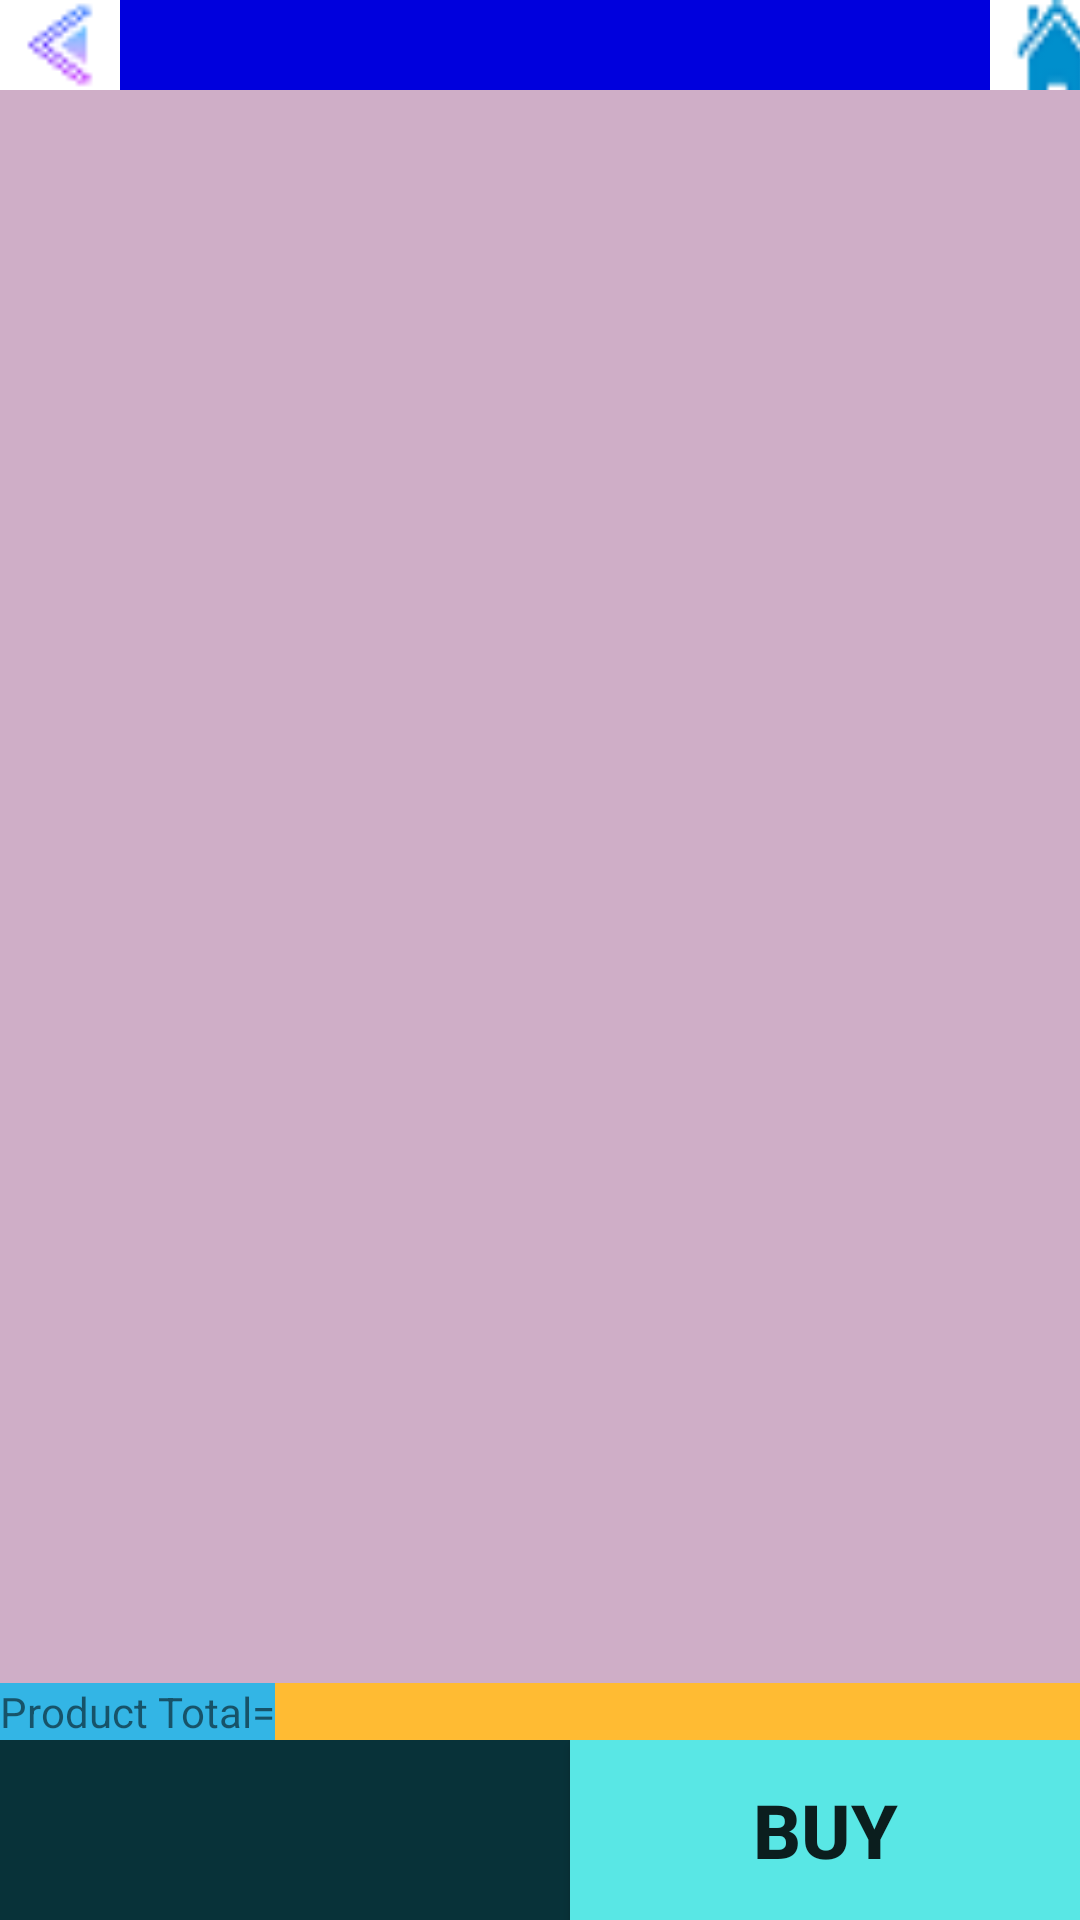

Icons on this 1080×1920 Android screen, each with the point to tap as (x,y):
back: (60,45)
